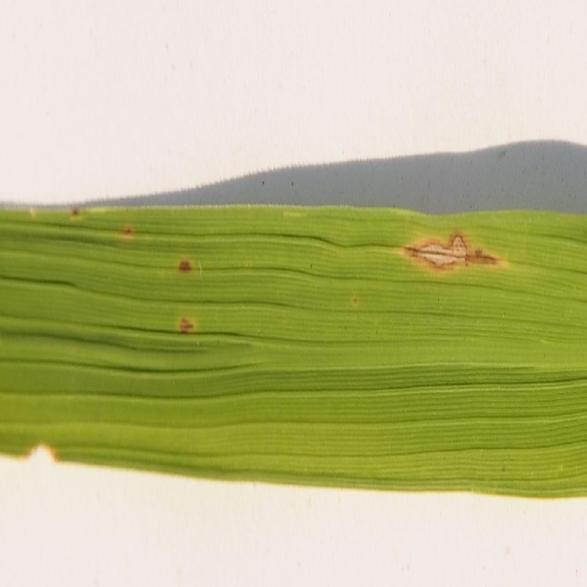Brown_Spot: (399, 193, 533, 296), (166, 229, 210, 300), (170, 296, 201, 369)
